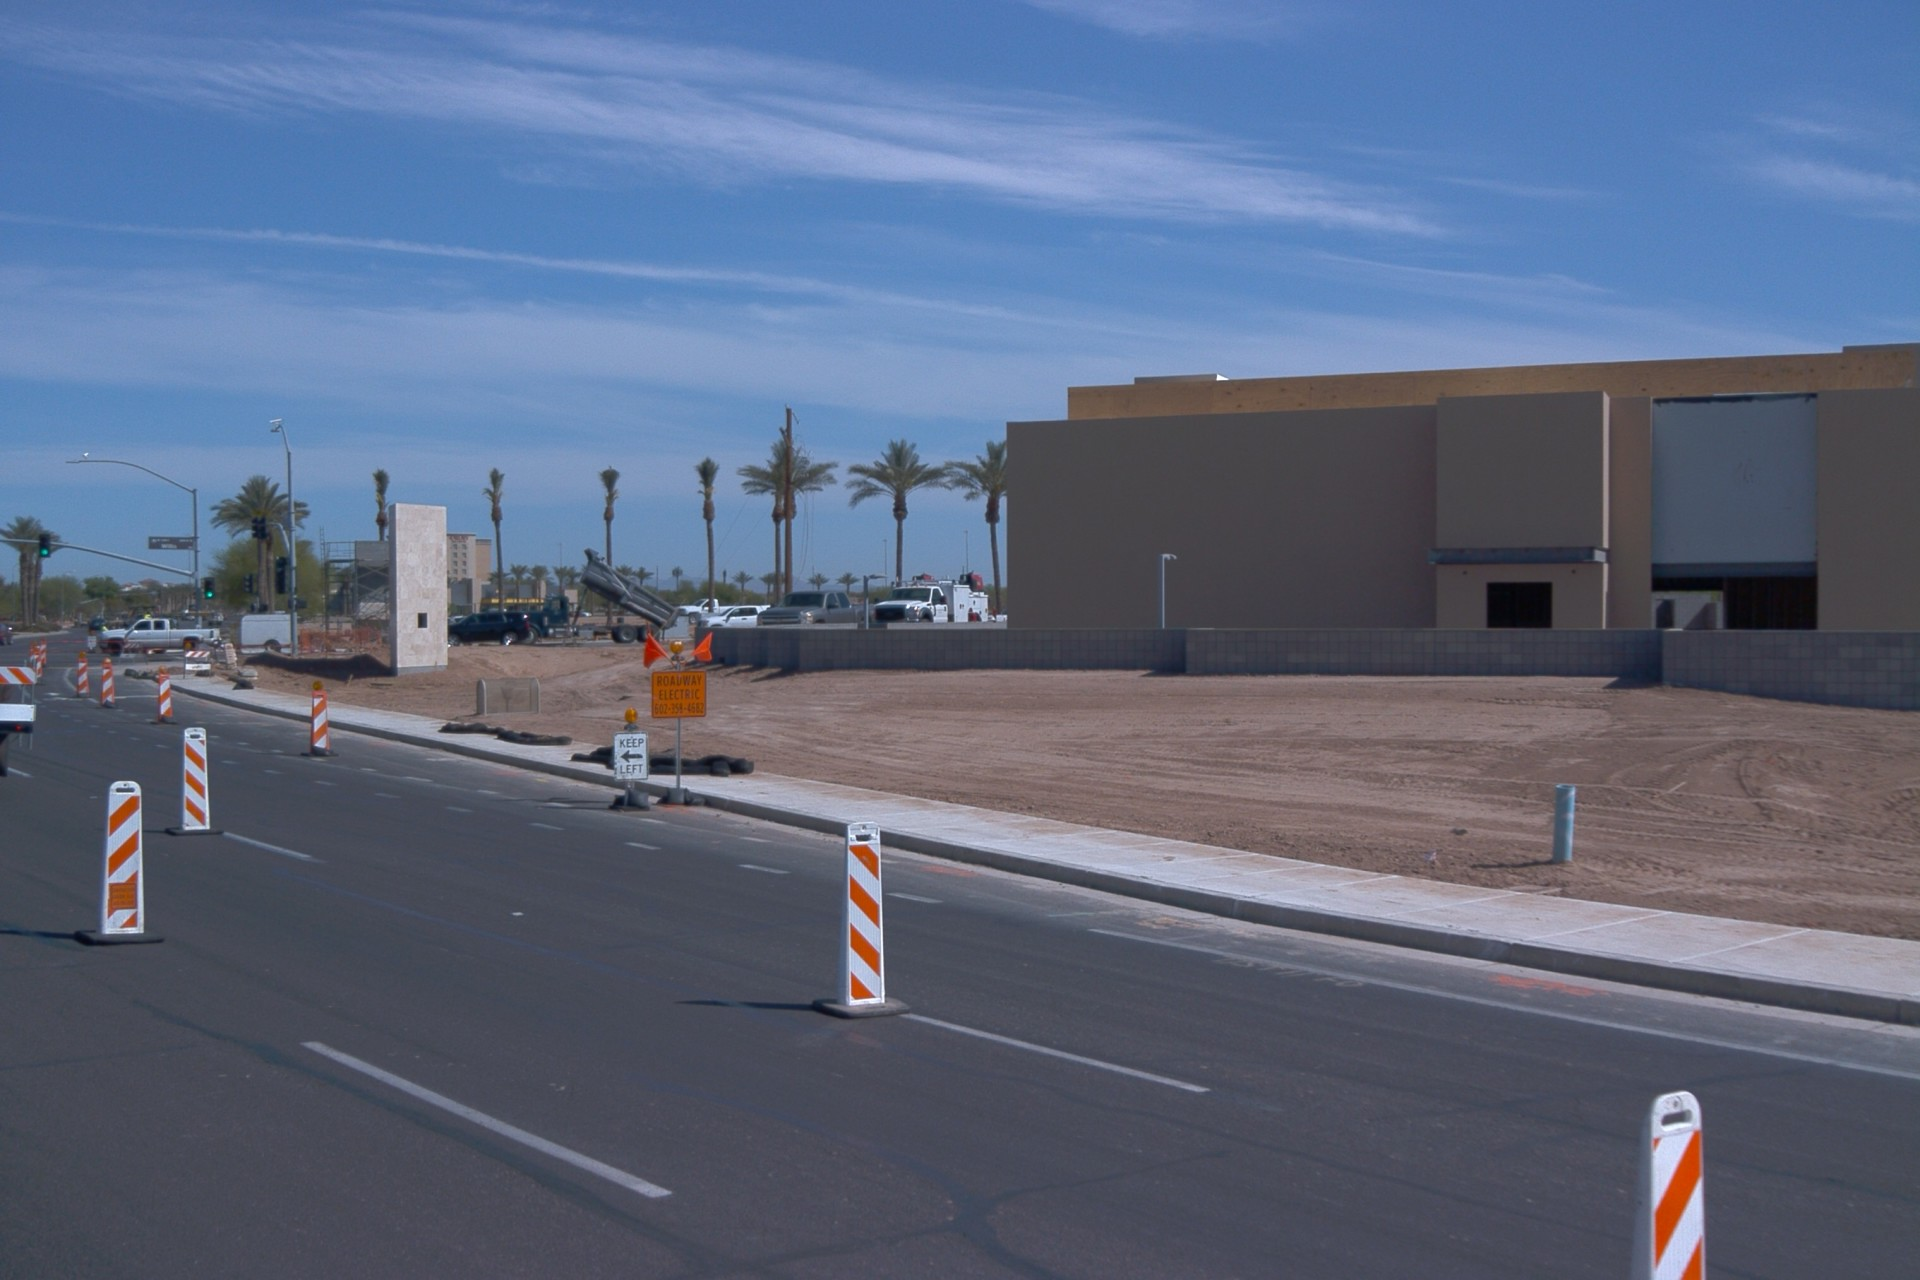TYPE_PEDESTRIAN: (99, 617, 112, 629)
TYPE_VEHICLE: (524, 545, 681, 645), (871, 567, 991, 626), (750, 584, 876, 633), (101, 617, 225, 658), (444, 609, 538, 650), (0, 705, 40, 779), (244, 614, 302, 658), (670, 597, 734, 629), (695, 607, 773, 631), (114, 604, 156, 627), (989, 604, 1012, 627), (0, 624, 13, 648), (88, 620, 108, 633), (181, 609, 194, 622), (488, 605, 508, 612), (448, 620, 465, 628)
